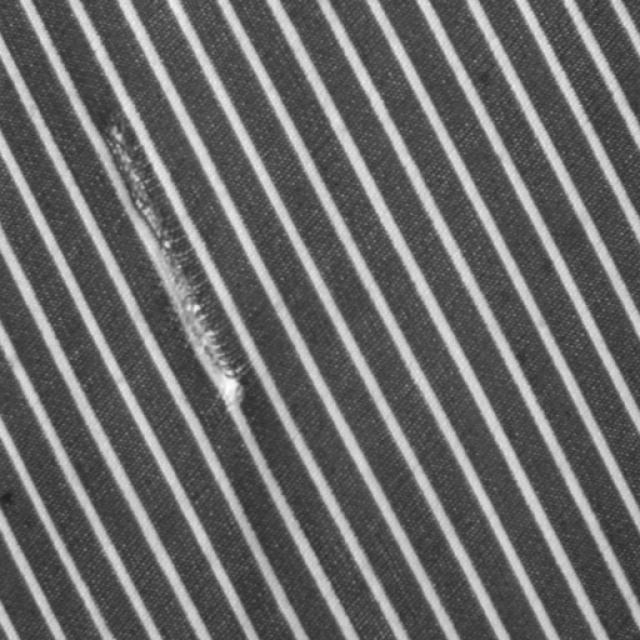Hole-Defect: (108, 112, 248, 410)
